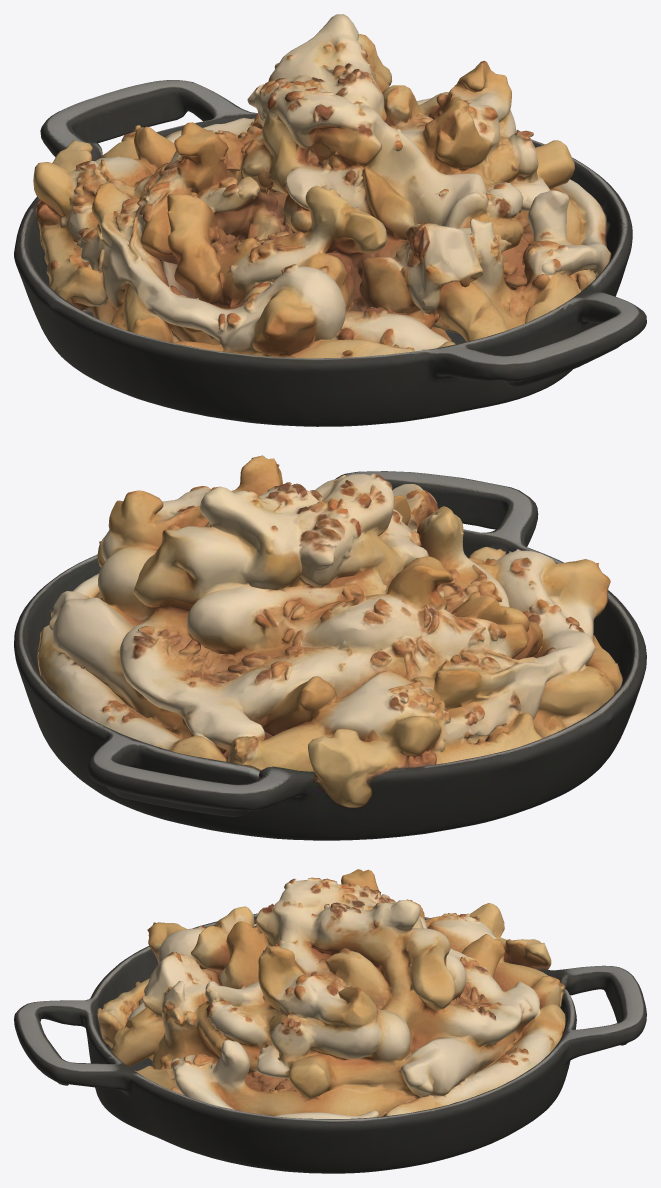
File: Loaded Fries.glb
The picture shows the model from 3 angles, top to bottom: view 1: azimuth 30°, elevation 25°; view 2: azimuth 150°, elevation 25°; view 3: azimuth 270°, elevation 25°; orthographic projection. The views are drawn at different scales.
Visible parts, largest first — view 1: tripo_node_f505fb0c-22bc-4910-ade9-583494bb2dcd; view 2: tripo_node_f505fb0c-22bc-4910-ade9-583494bb2dcd; view 3: tripo_node_f505fb0c-22bc-4910-ade9-583494bb2dcd.
Part boxes in pixels (box(x1,y1,x2,y2)): tripo_node_f505fb0c-22bc-4910-ade9-583494bb2dcd: box(14, 14, 646, 426); tripo_node_f505fb0c-22bc-4910-ade9-583494bb2dcd: box(14, 455, 646, 840); tripo_node_f505fb0c-22bc-4910-ade9-583494bb2dcd: box(14, 869, 646, 1173).
Size of the model in its own units: 0.8138 by 0.3506 by 1.
1 material, 1 textured.
